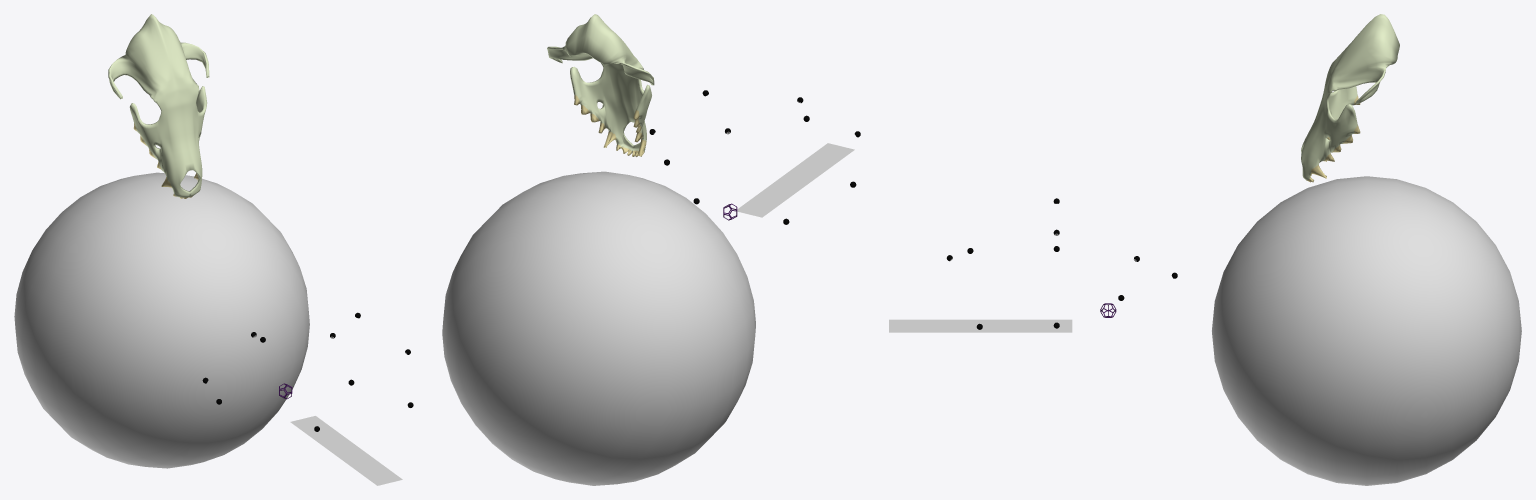
The model's file is End_Scene.fbx.
The picture shows the model from 3 angles, left to right: view 1: azimuth 30°, elevation 25°; view 2: azimuth 150°, elevation 25°; view 3: azimuth 270°, elevation 25°; orthographic projection. The views are drawn at different scales.
Visible parts, largest first — view 1: Sphere, Entity Skull, Platform; view 2: Sphere, Entity Skull, Platform; view 3: Sphere, Entity Skull, Platform.
Boxes of the visible parts, box(x1,y1,x2,y2) form: Sphere: box(14, 172, 309, 468); Entity Skull: box(108, 14, 209, 198); Platform: box(290, 416, 402, 485); Sphere: box(442, 171, 755, 485); Entity Skull: box(547, 14, 654, 156); Platform: box(737, 143, 854, 217); Sphere: box(1212, 176, 1521, 485); Entity Skull: box(1301, 14, 1399, 182); Platform: box(889, 319, 1072, 332).
Size of what is drawn, in the model's own units: 2000 by 3248 by 4081.
